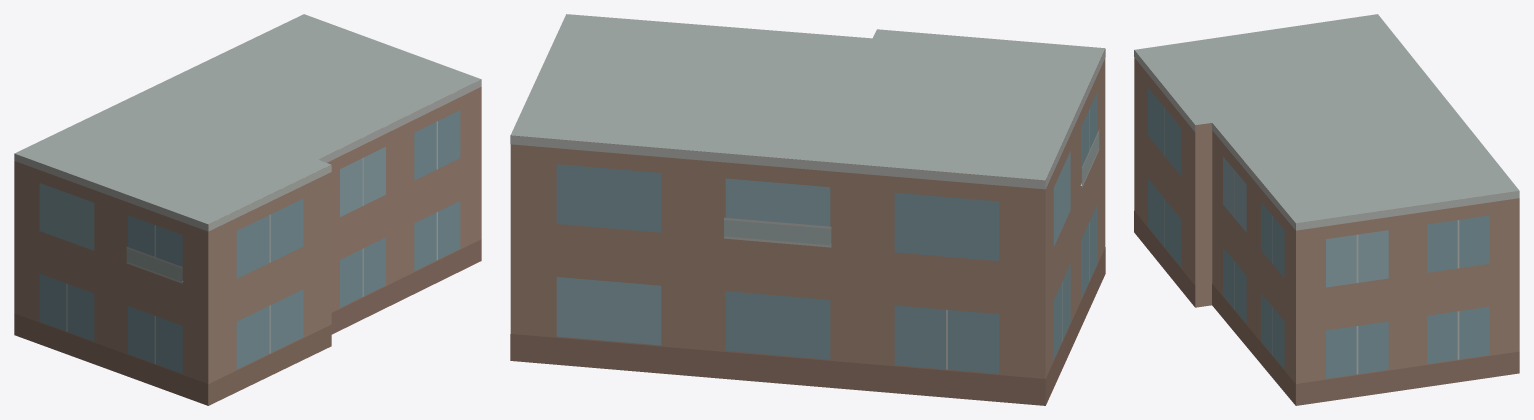
The model's file is survey-upis-32793939.glb.
3 views of the same model, side by side, from view 1: azimuth 30°, elevation 25°; view 2: azimuth 150°, elevation 25°; view 3: azimuth 270°, elevation 25° (orthographic). The views are drawn at different scales.
Parts seen in each view (by area): view 1: survey-upis-32793939.tmp; view 2: survey-upis-32793939.tmp; view 3: survey-upis-32793939.tmp.
Part boxes in pixels (x1,y1,x2,y2): survey-upis-32793939.tmp: [14, 14, 481, 405]; survey-upis-32793939.tmp: [510, 14, 1105, 405]; survey-upis-32793939.tmp: [1134, 14, 1519, 405].
Size of the model in its own units: 15.01 by 6.1 by 11.69.
